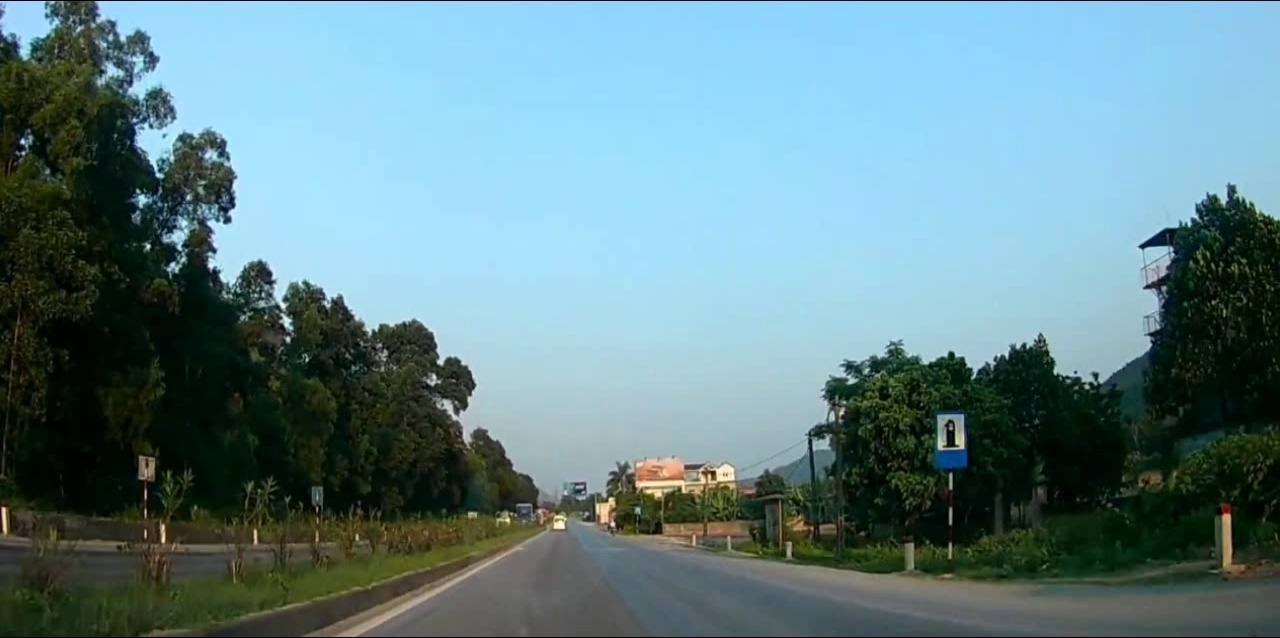Bien khac: (932, 408, 969, 470)
